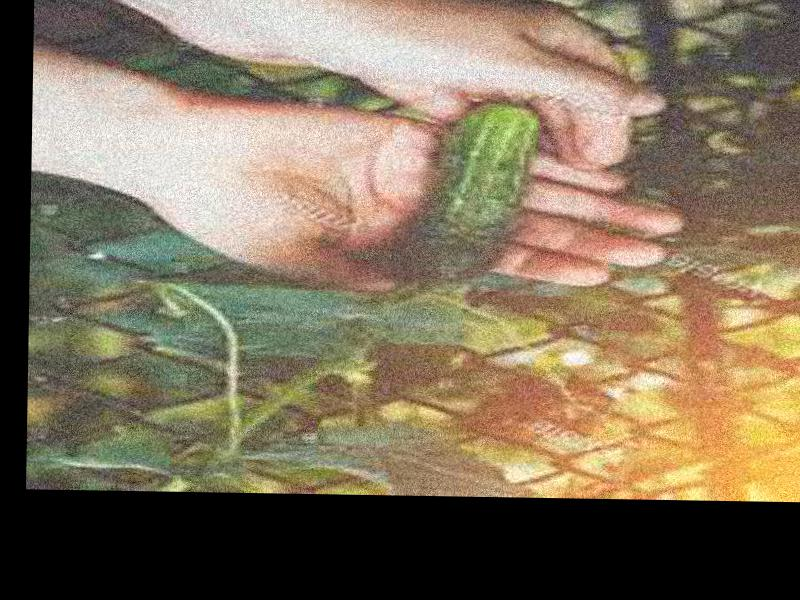Cucumber: (396, 99, 543, 284)
